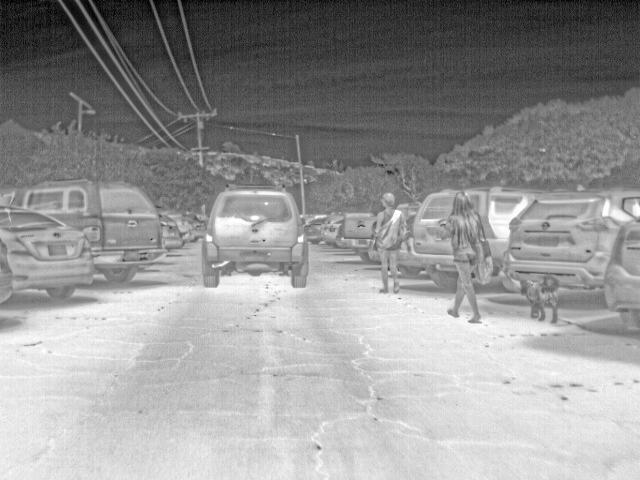car: (0, 177, 164, 282), (505, 188, 639, 284), (200, 185, 309, 287), (0, 203, 98, 302), (456, 184, 541, 292), (411, 188, 459, 292), (603, 216, 639, 328), (338, 212, 376, 262), (0, 234, 14, 308), (157, 213, 181, 249), (170, 210, 194, 244), (322, 210, 339, 249), (304, 214, 322, 244), (188, 212, 206, 237)
dog: (517, 273, 563, 325)
person: (446, 190, 486, 324), (370, 192, 409, 294)
